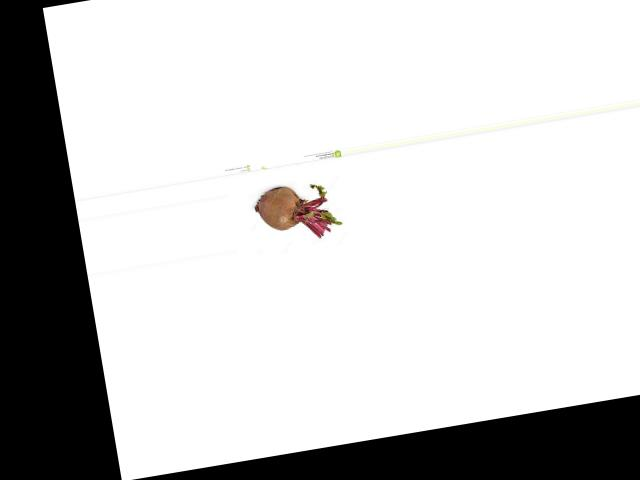beet: (251, 178, 343, 247)
